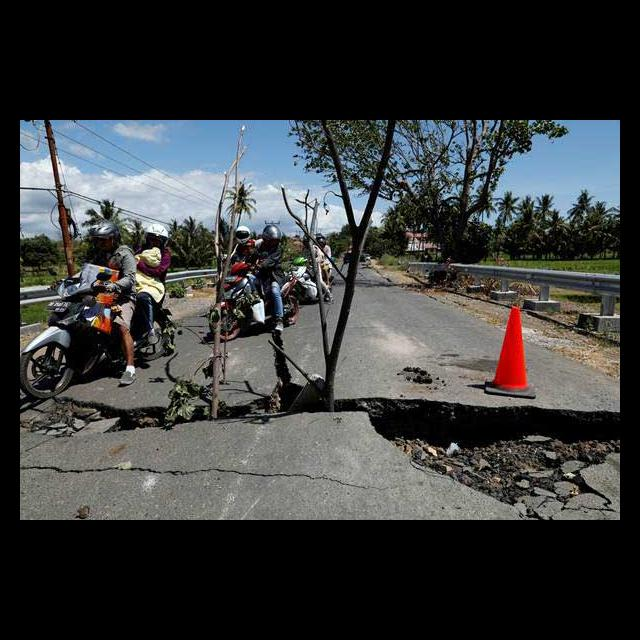lubang_kecil: (358, 386, 620, 520), (20, 387, 177, 449)
retak_memanjang: (20, 451, 367, 494)
